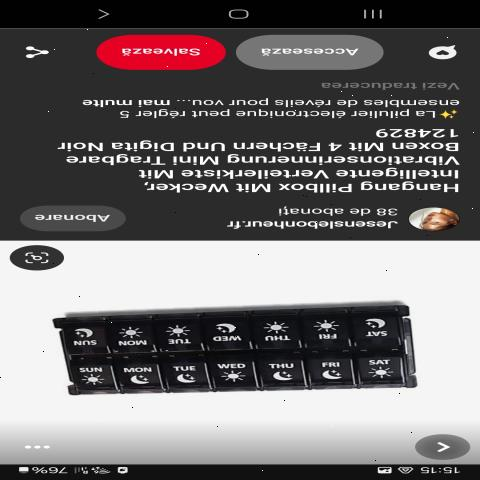PillBox: (20, 294, 440, 408)
